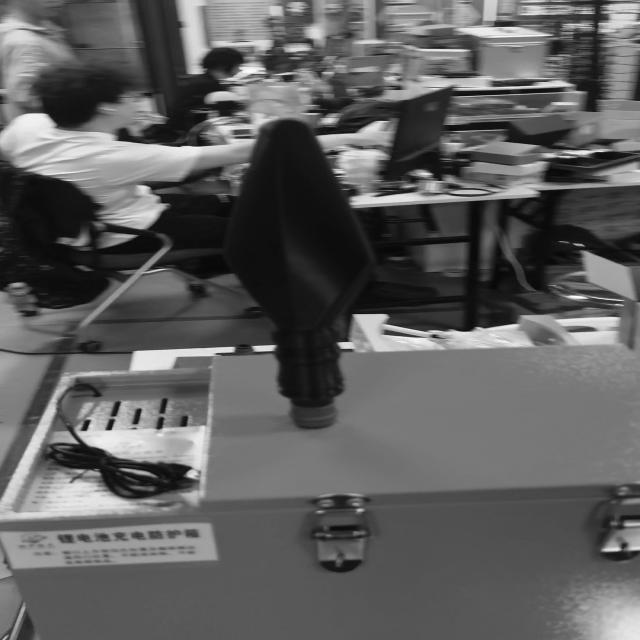base: (286, 401, 342, 429)
